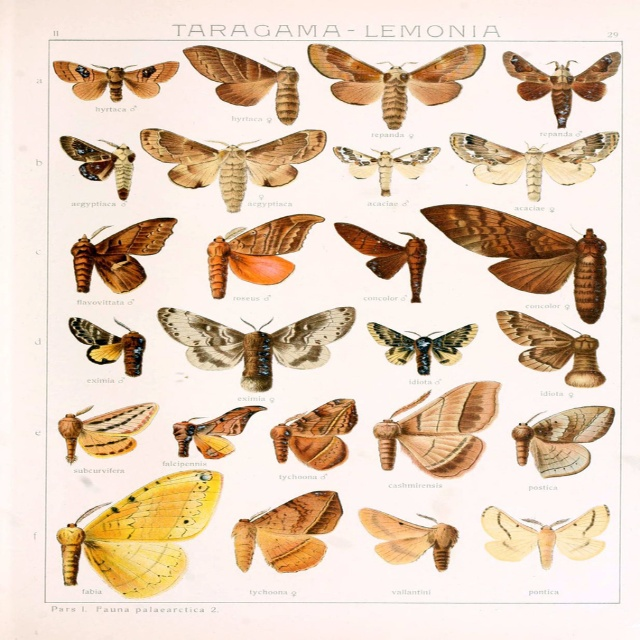Butterfly: (412, 199, 606, 327), (52, 462, 225, 605), (147, 300, 363, 399), (298, 33, 482, 132), (140, 112, 311, 200), (171, 39, 315, 131), (453, 128, 626, 204), (377, 374, 499, 476), (199, 212, 329, 304), (228, 482, 343, 583), (476, 504, 629, 579), (63, 215, 181, 303), (490, 300, 606, 387), (504, 404, 620, 488), (334, 211, 432, 303), (515, 42, 620, 127), (48, 312, 160, 386), (265, 390, 363, 473), (364, 313, 486, 378), (53, 394, 160, 466), (328, 131, 439, 200), (356, 508, 464, 577), (166, 399, 266, 472), (53, 129, 149, 202), (55, 56, 183, 110)
